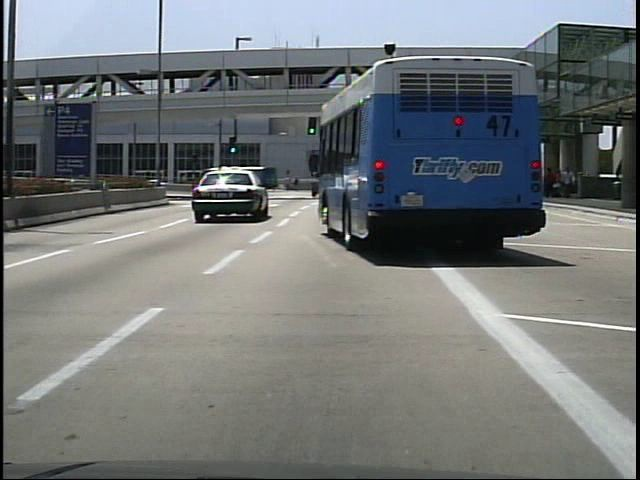person: (559, 166, 578, 201), (543, 167, 558, 200), (291, 177, 302, 195), (280, 176, 291, 193), (553, 168, 561, 184)
